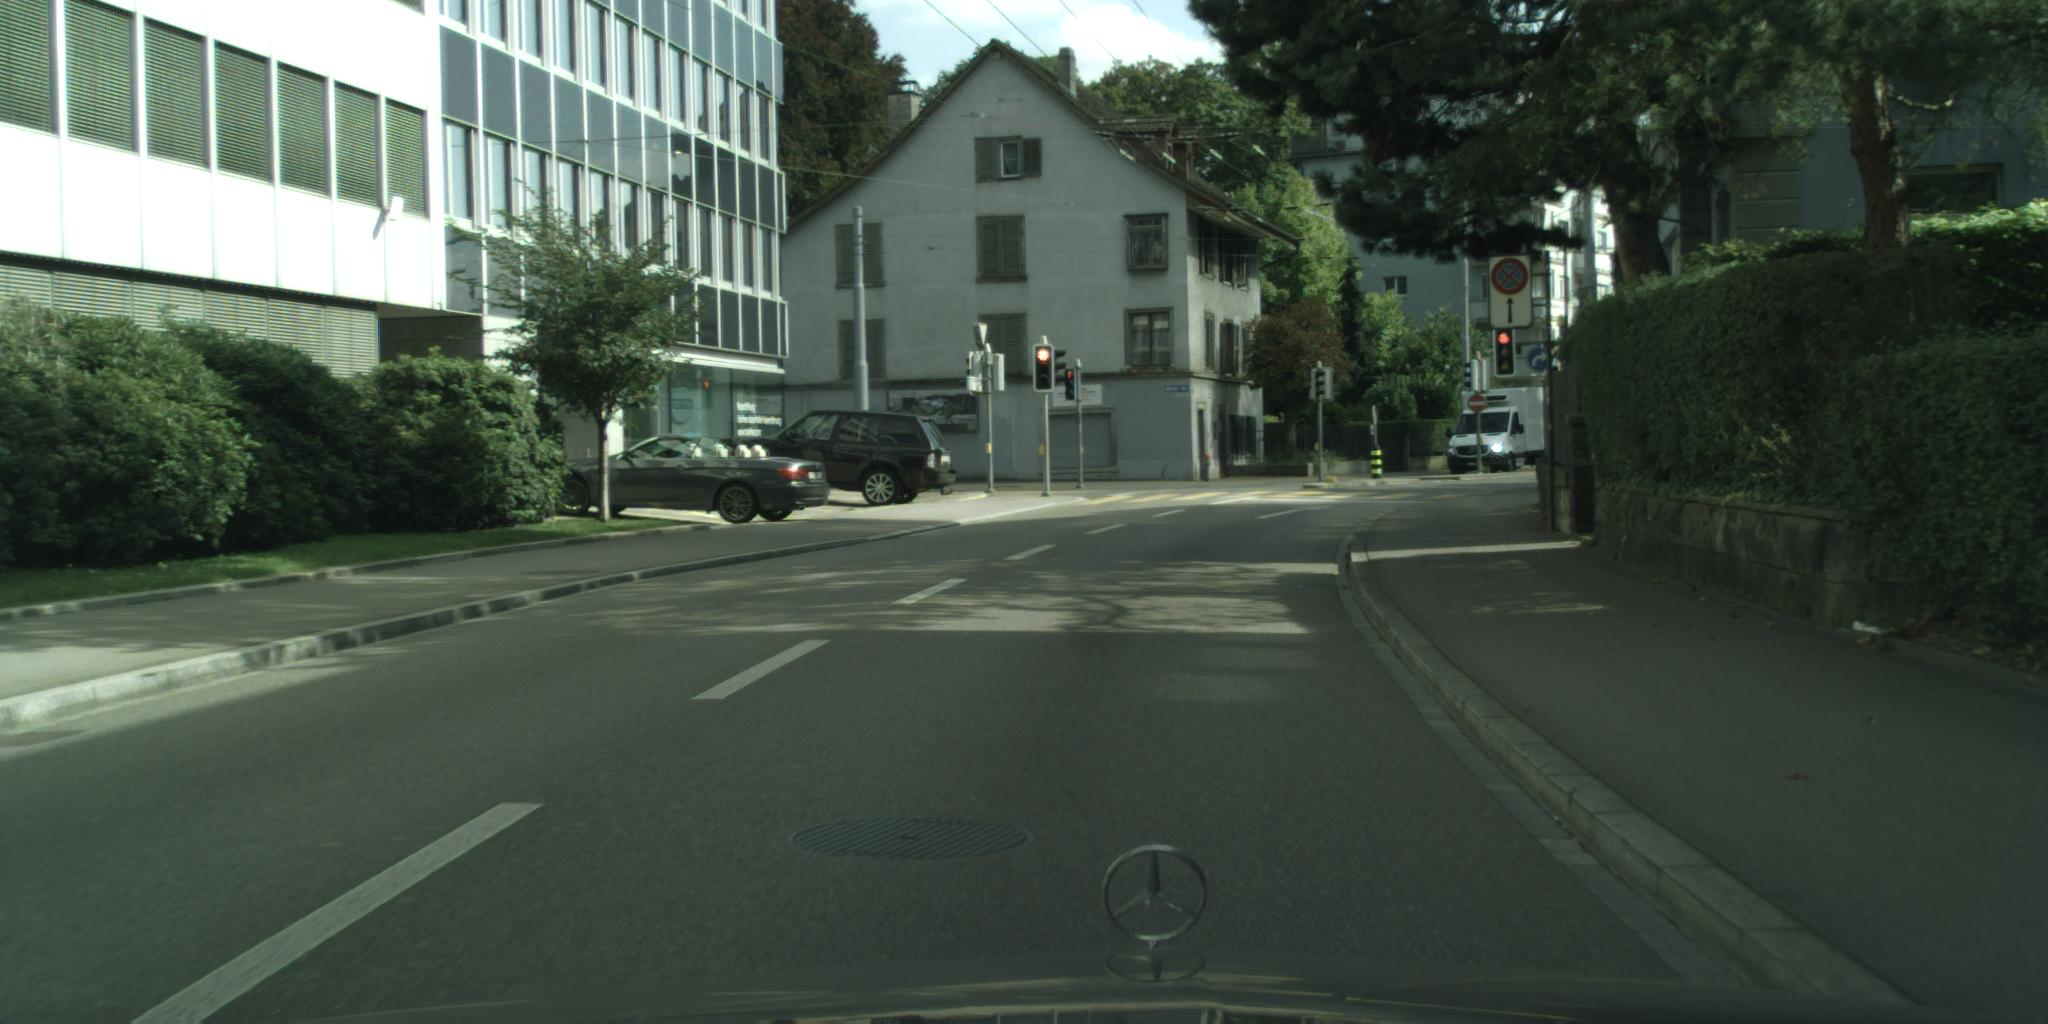car: (552, 436, 831, 526), (724, 410, 956, 505)
truck: (1448, 388, 1546, 478)
